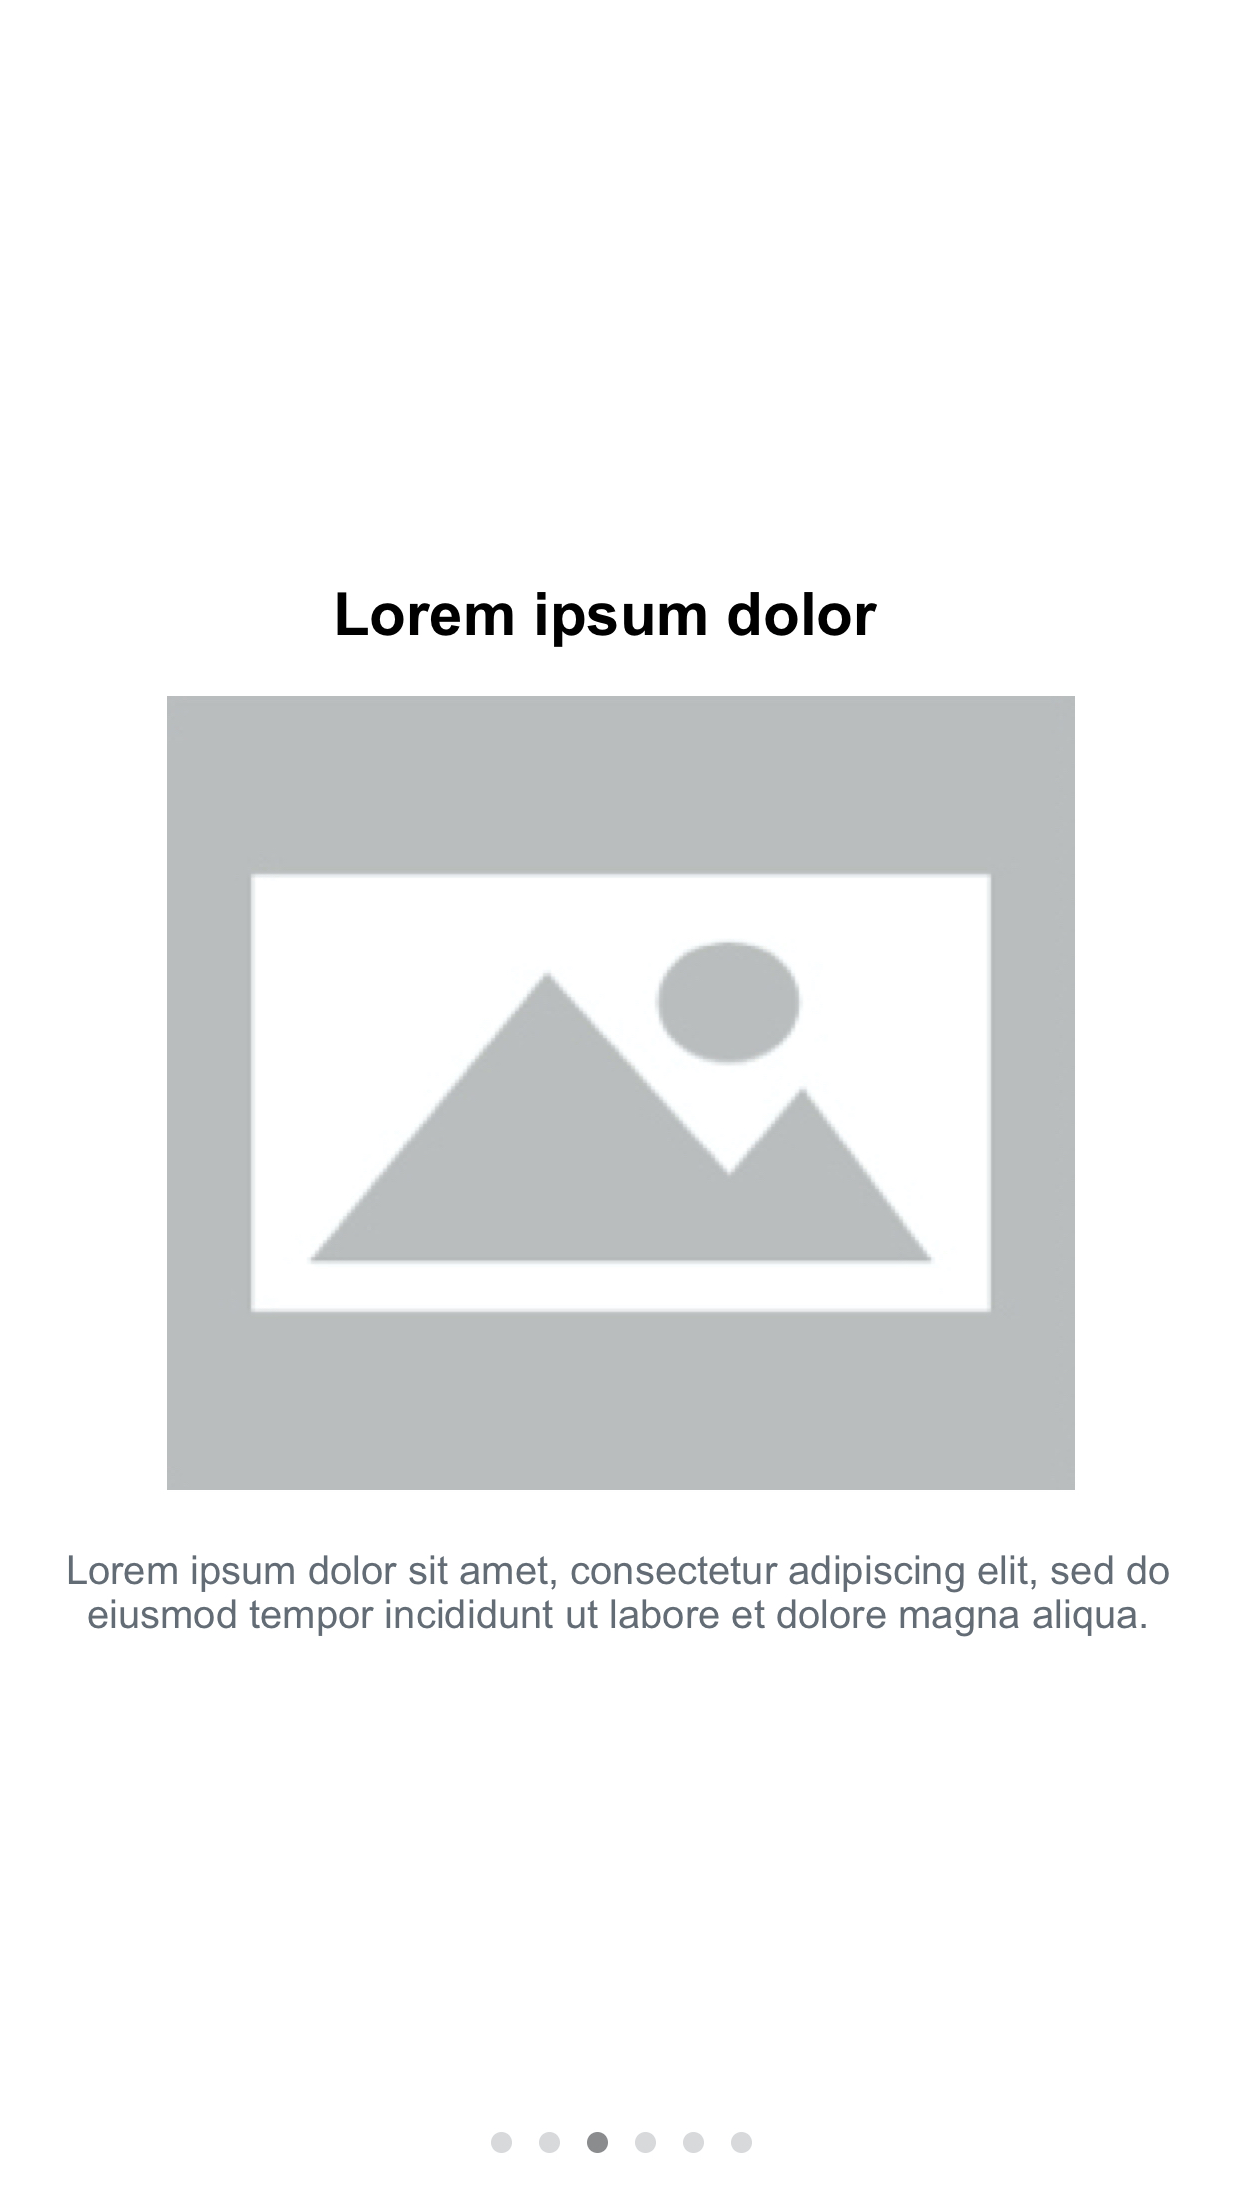Image: (165, 695, 1077, 1492)
PageIndicator: (490, 2131, 754, 2153)
Text: (70, 1554, 1171, 1636), (337, 591, 878, 651)
